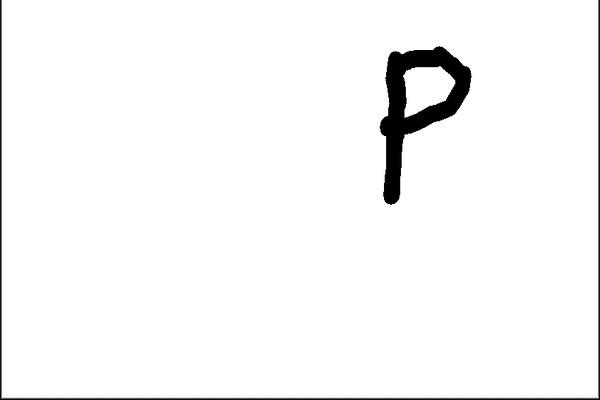P: (364, 36, 479, 212)
